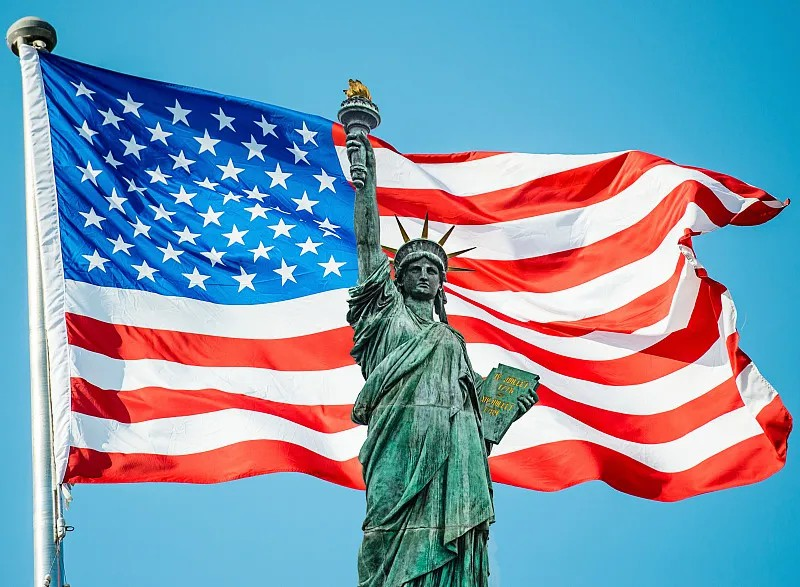SL: (337, 78, 541, 587)
